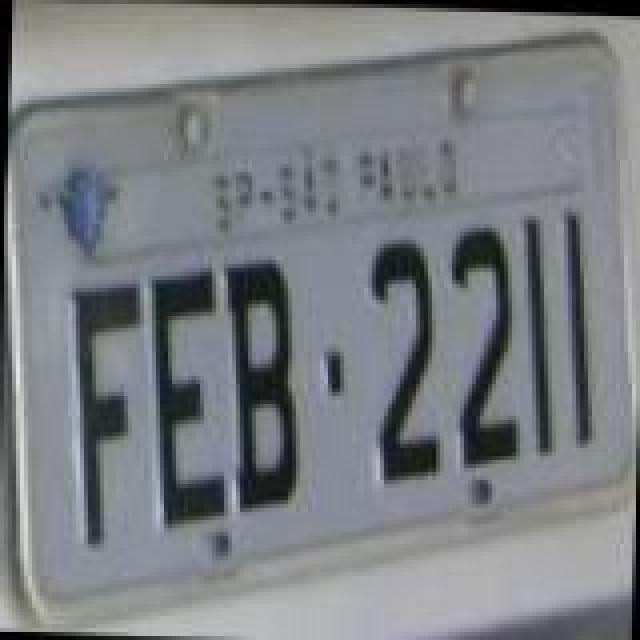1: (510, 210, 562, 454), (550, 204, 602, 444)
2: (358, 232, 446, 488), (438, 216, 522, 472)
B: (212, 254, 304, 514)
E: (138, 262, 234, 534)
F: (58, 270, 142, 546)
